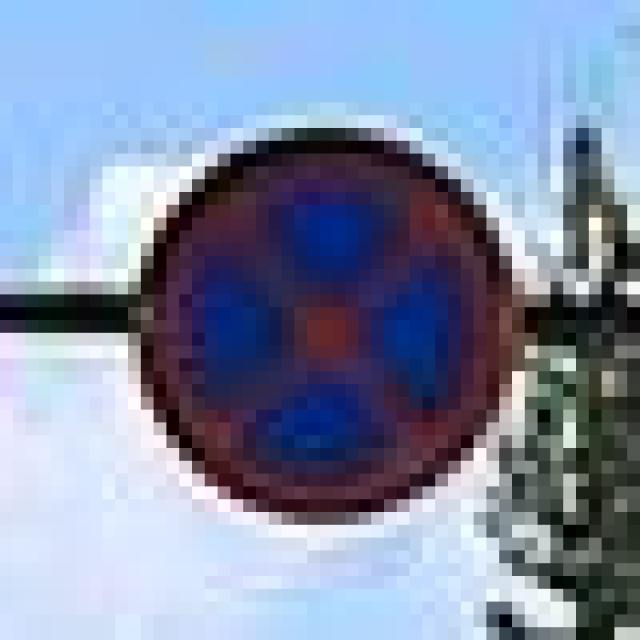no_parking: (128, 115, 499, 512)
